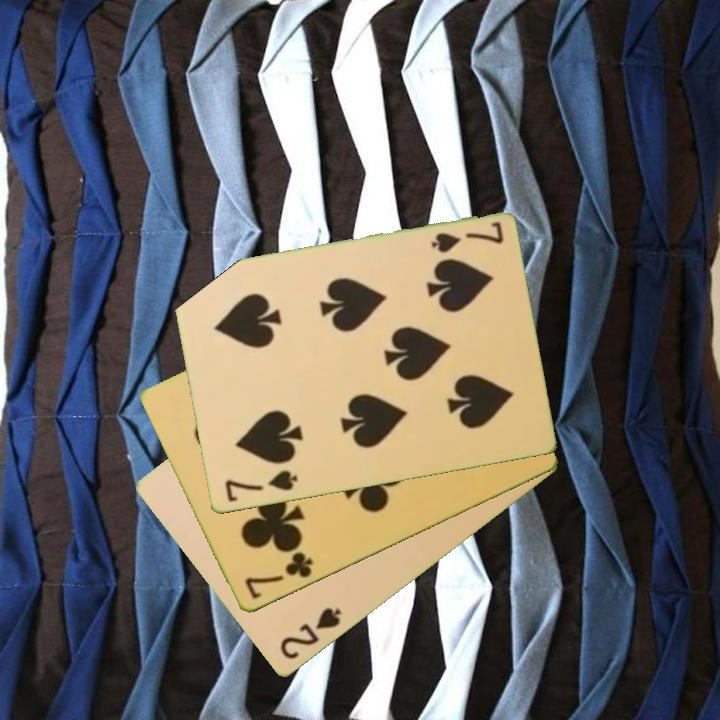2s: (276, 604, 345, 663)
7c: (241, 549, 316, 603)
7s: (221, 467, 300, 506), (427, 219, 506, 257)
